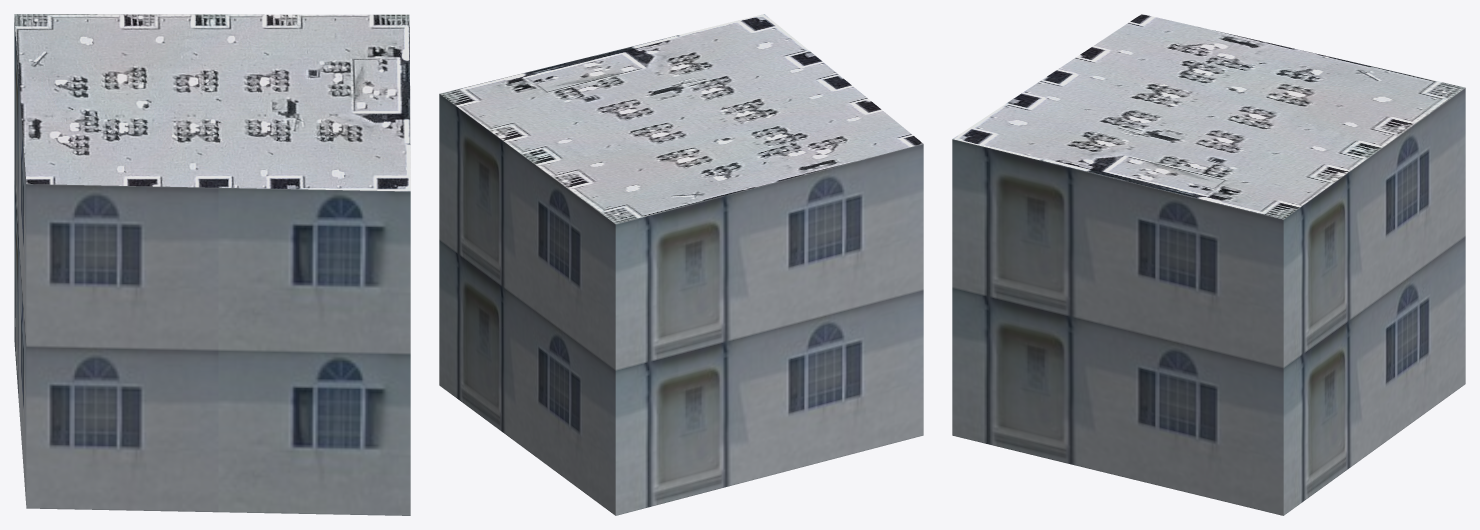
The model's file is ResTex__3086.fbx.
The picture shows the model from 3 angles, left to right: view 1: azimuth 30°, elevation 25°; view 2: azimuth 150°, elevation 25°; view 3: azimuth 270°, elevation 25°; orthographic projection. The views are drawn at different scales.
Visible parts, largest first — view 1: CityEngineMaterial_17_m, CityEngineMaterial_m; view 2: CityEngineMaterial_17_m, CityEngineMaterial_m; view 3: CityEngineMaterial_17_m, CityEngineMaterial_m.
Part boxes in pixels (box(x1,y1,x2,y2)): CityEngineMaterial_17_m: box(14, 18, 410, 515); CityEngineMaterial_m: box(14, 14, 410, 191); CityEngineMaterial_17_m: box(439, 94, 923, 515); CityEngineMaterial_m: box(440, 14, 923, 223); CityEngineMaterial_17_m: box(952, 88, 1465, 515); CityEngineMaterial_m: box(952, 14, 1465, 219).
Size of the model in its own units: 8.92 by 6 by 9.42.
Materials: 2 (2 with a texture image).
